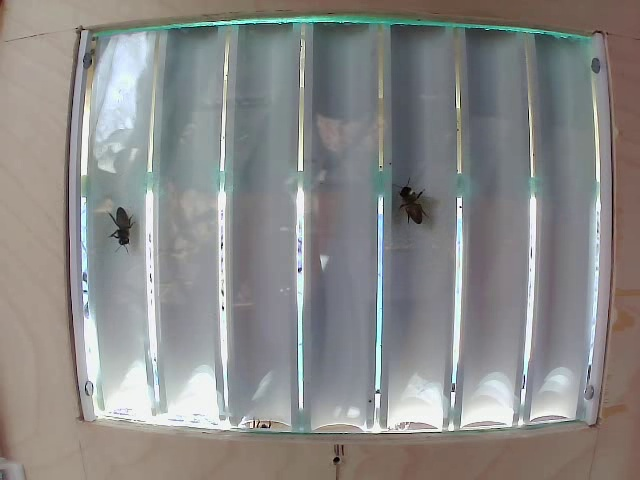bee: (96, 203, 158, 254), (383, 172, 430, 230)
